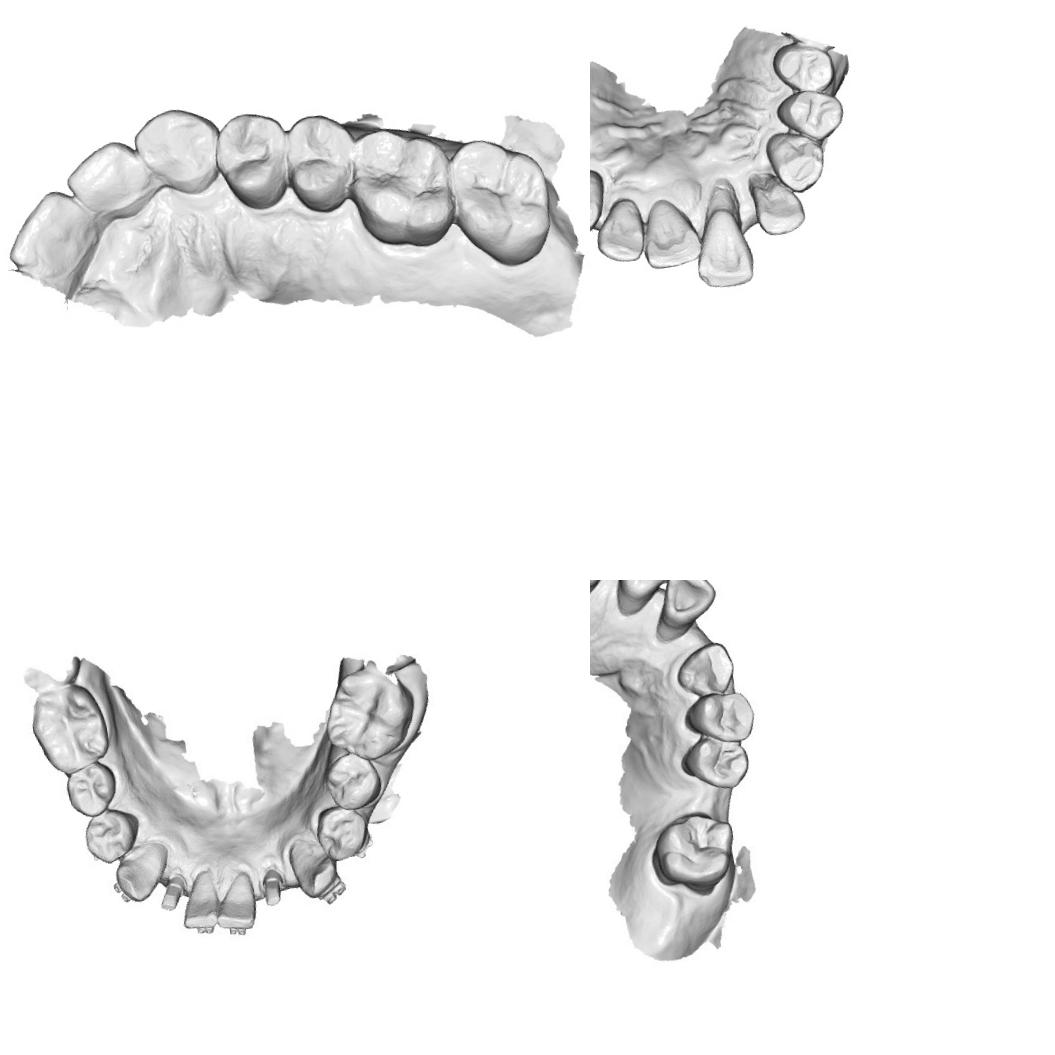abutment: (153, 868, 192, 920), (254, 864, 288, 914)
canine: (130, 98, 228, 202), (763, 123, 832, 197), (106, 841, 176, 904), (285, 832, 343, 904), (670, 640, 738, 700), (590, 166, 612, 239)
incisor: (0, 183, 100, 283), (58, 135, 156, 228), (683, 178, 759, 292), (636, 192, 704, 271), (745, 162, 810, 240), (590, 195, 649, 267), (655, 580, 723, 627), (209, 871, 261, 931), (176, 869, 224, 932), (606, 580, 691, 602)
molar: (339, 115, 464, 258), (444, 125, 563, 275), (314, 660, 424, 770), (644, 803, 745, 904), (25, 680, 116, 779)
premolar: (207, 104, 299, 216), (278, 108, 362, 220), (676, 730, 752, 800), (679, 684, 759, 750), (318, 748, 384, 818), (76, 803, 146, 869), (775, 82, 848, 144), (308, 800, 373, 866), (769, 36, 837, 99), (59, 758, 121, 824)
